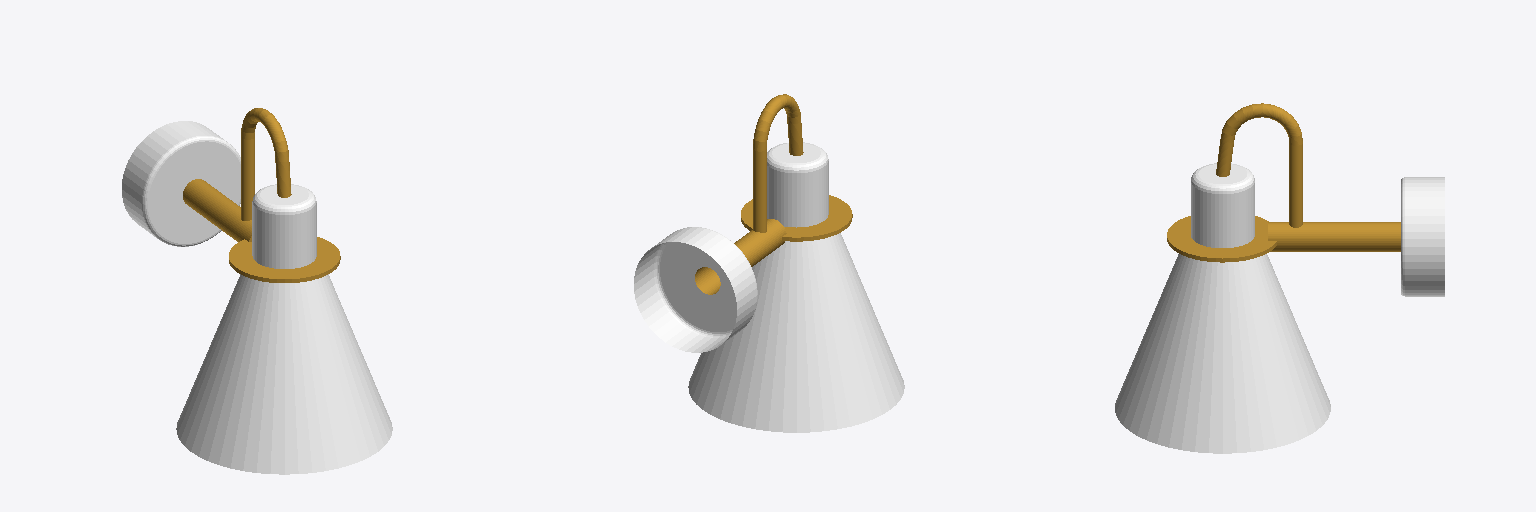
Rendered from argon_4704.obj.
The picture shows the model from 3 angles: view 1: azimuth 30°, elevation 25°; view 2: azimuth 150°, elevation 25°; view 3: azimuth 270°, elevation 25°; orthographic projection.
Parts seen in each view (by area): view 1: argon_4704_Circle.041; view 2: argon_4704_Circle.041; view 3: argon_4704_Circle.041.
Boxes of the visible parts, <box> form: argon_4704_Circle.041: <box>122,108,392,474</box>; argon_4704_Circle.041: <box>634,94,904,432</box>; argon_4704_Circle.041: <box>1115,103,1444,453</box>.
Bounding box in the file's own units: 0.145 × 0.2247 × 0.2215.